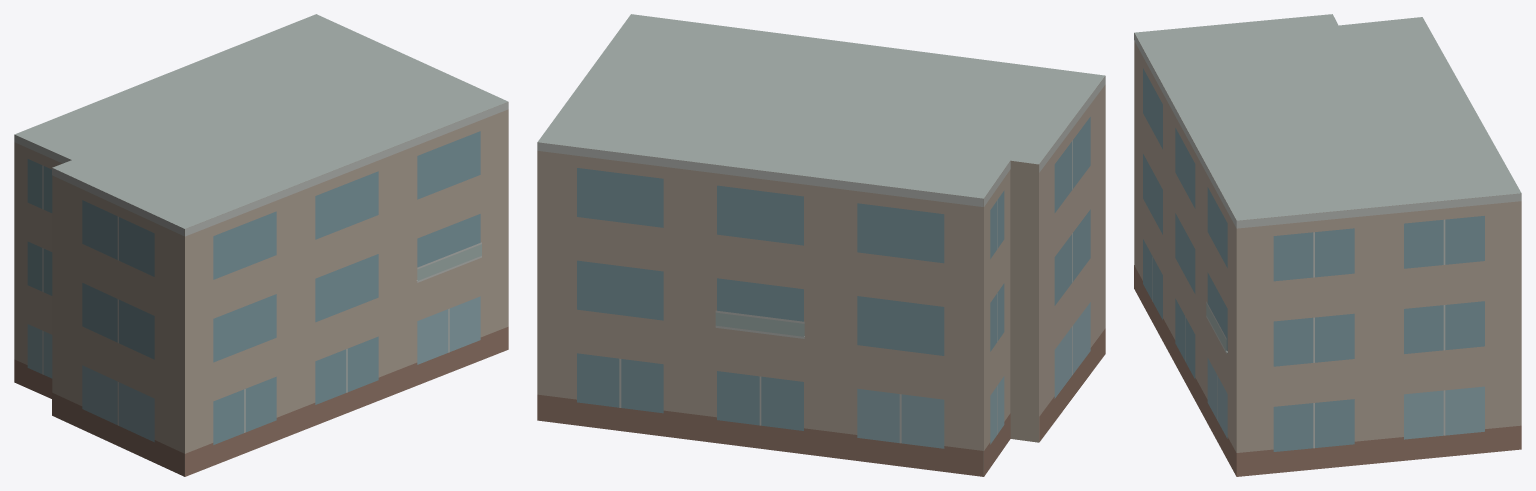
The model's file is survey-upis-33023463.glb.
3 views of the same model, side by side, from view 1: azimuth 30°, elevation 25°; view 2: azimuth 150°, elevation 25°; view 3: azimuth 270°, elevation 25° (orthographic). The views are drawn at different scales.
Parts seen in each view (by area): view 1: survey-upis-33023463.tmp; view 2: survey-upis-33023463.tmp; view 3: survey-upis-33023463.tmp.
Part boxes in pixels (x1=…): survey-upis-33023463.tmp: x1=14, y1=14, x2=508, y2=476; survey-upis-33023463.tmp: x1=537, y1=14, x2=1105, y2=476; survey-upis-33023463.tmp: x1=1134, y1=14, x2=1521, y2=476.
Bounding box in the file's own units: 13.77 × 7.95 × 10.91.
